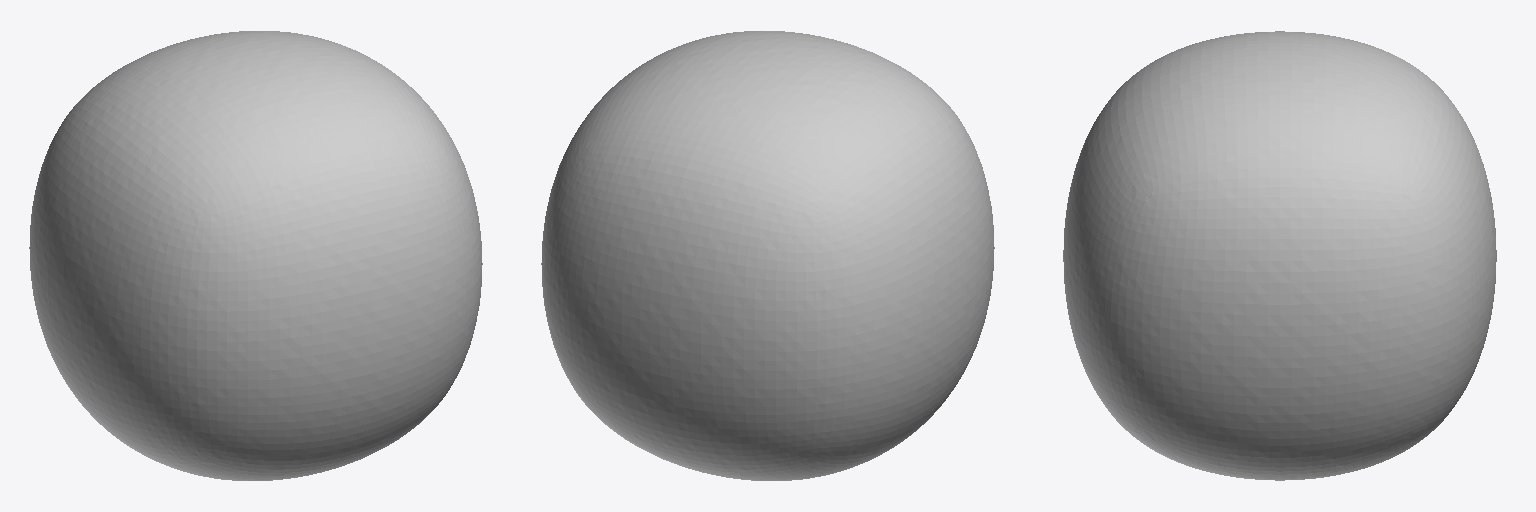
Rendered from SKY.obj.
3 views of the same model, side by side, from view 1: azimuth 30°, elevation 25°; view 2: azimuth 150°, elevation 25°; view 3: azimuth 270°, elevation 25° (orthographic).
Parts seen in each view (by area): view 1: object_0; view 2: object_0; view 3: object_0.
Part boxes in pixels (x1,y1,x2,y2): object_0: (29,31,482,480); object_0: (541,31,994,480); object_0: (1063,31,1496,480).
Size of the model in its own units: 1151 by 1151 by 1151.